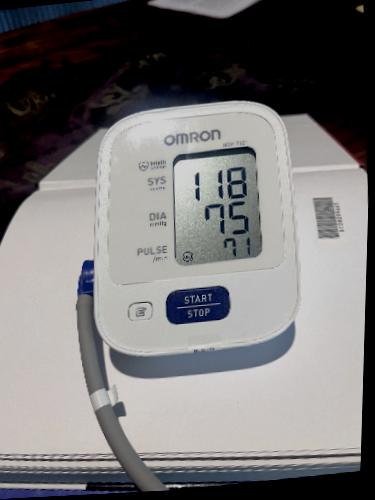bpm: (160, 144, 268, 269)
